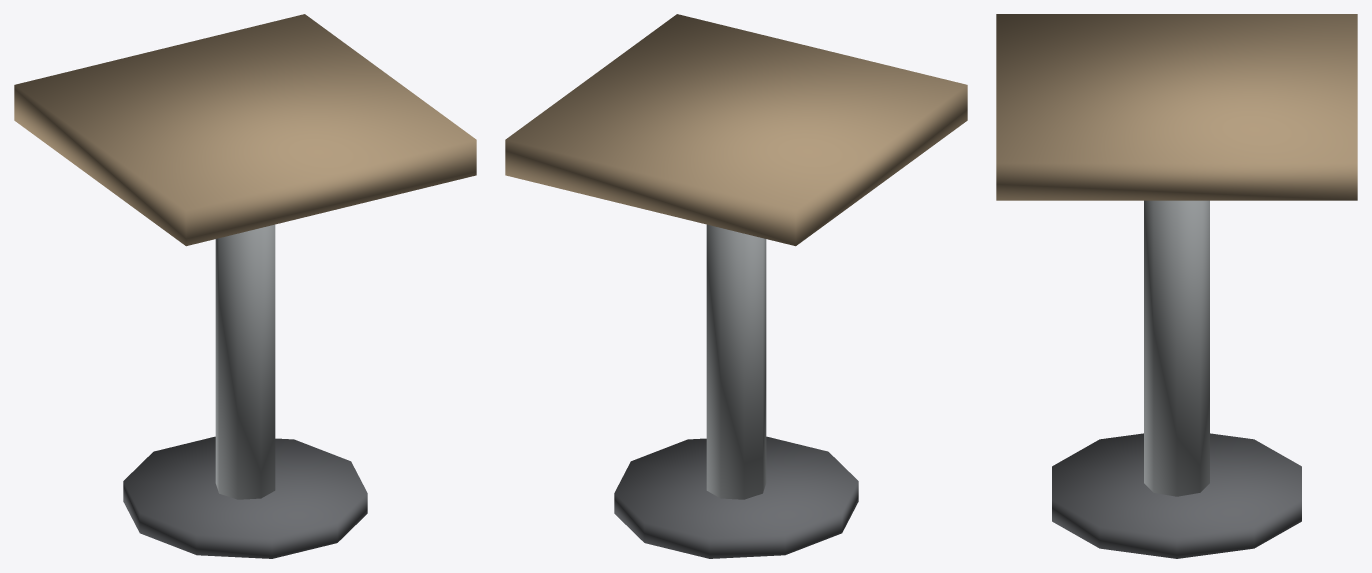
The model's file is cafe_pedestal_table__compact.glb.
3 views of the same model, side by side, from view 1: azimuth 30°, elevation 25°; view 2: azimuth 150°, elevation 25°; view 3: azimuth 270°, elevation 25° (orthographic). The views are drawn at different scales.
Parts seen in each view (by area): view 1: world; view 2: world; view 3: world.
Boxes of the visible parts, left/top/right/bottom form: world: left=14, top=14, right=476, bottom=558; world: left=505, top=14, right=967, bottom=558; world: left=996, top=14, right=1357, bottom=558.
Bounding box in the file's own units: 0.5544 × 0.7207 × 0.5676.
